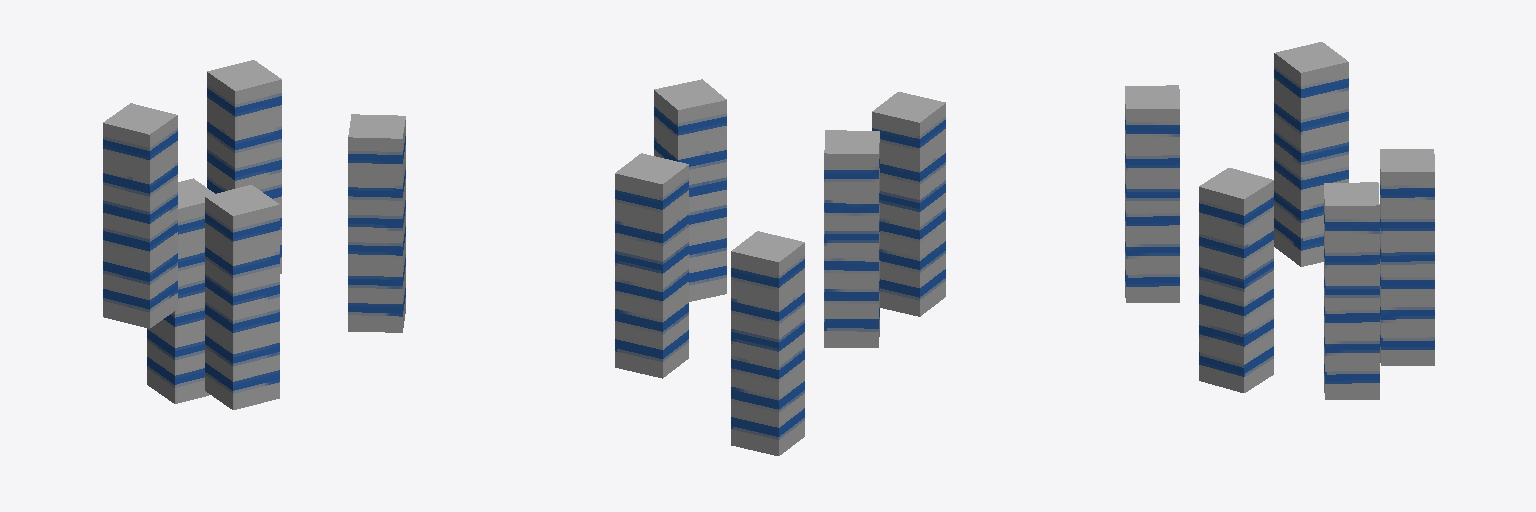
3 renders of one model, left to right at view 1: azimuth 30°, elevation 25°; view 2: azimuth 150°, elevation 25°; view 3: azimuth 270°, elevation 25°, orthographic.
Parts seen in each view (by area): view 1: Cube; view 2: Cube; view 3: Cube.
Boxes of the visible parts, x1=… form: Cube: x1=103, y1=60, x2=405, y2=409; Cube: x1=615, y1=79, x2=945, y2=455; Cube: x1=1125, y1=42, x2=1434, y2=399.
Bounding box in the file's own units: 11.16 × 12.09 × 11.36.
1 materials, 1 textured.